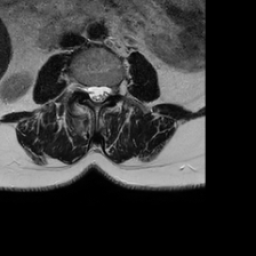CCS_normal: (94, 78, 101, 109)
LFS_normal: (110, 78, 117, 99)
LLS_normal: (101, 79, 110, 104)
RFS_normal: (80, 76, 87, 98)
RLS_normal: (87, 78, 94, 105)
